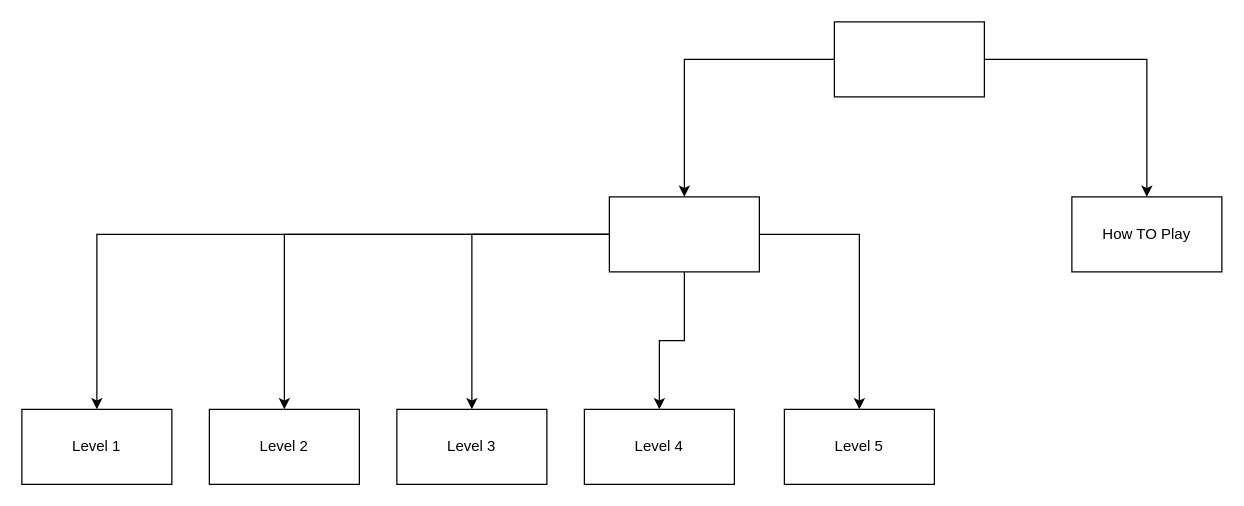
The diagram is 1244 pixels wide and 506 high, and some of its shapes have lost their labels. Each missing label, with the centre of its shape:
"Home Page" belongs at (x=908, y=59).
"Level Select" belongs at (x=683, y=234).
